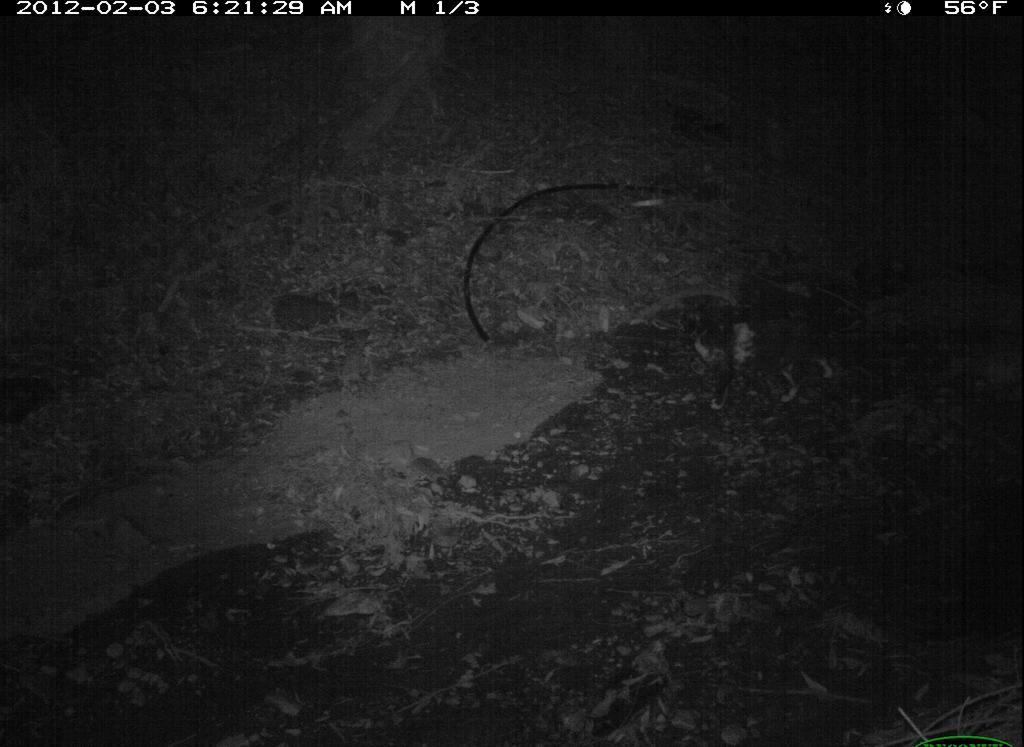cat: (690, 315, 838, 414)
